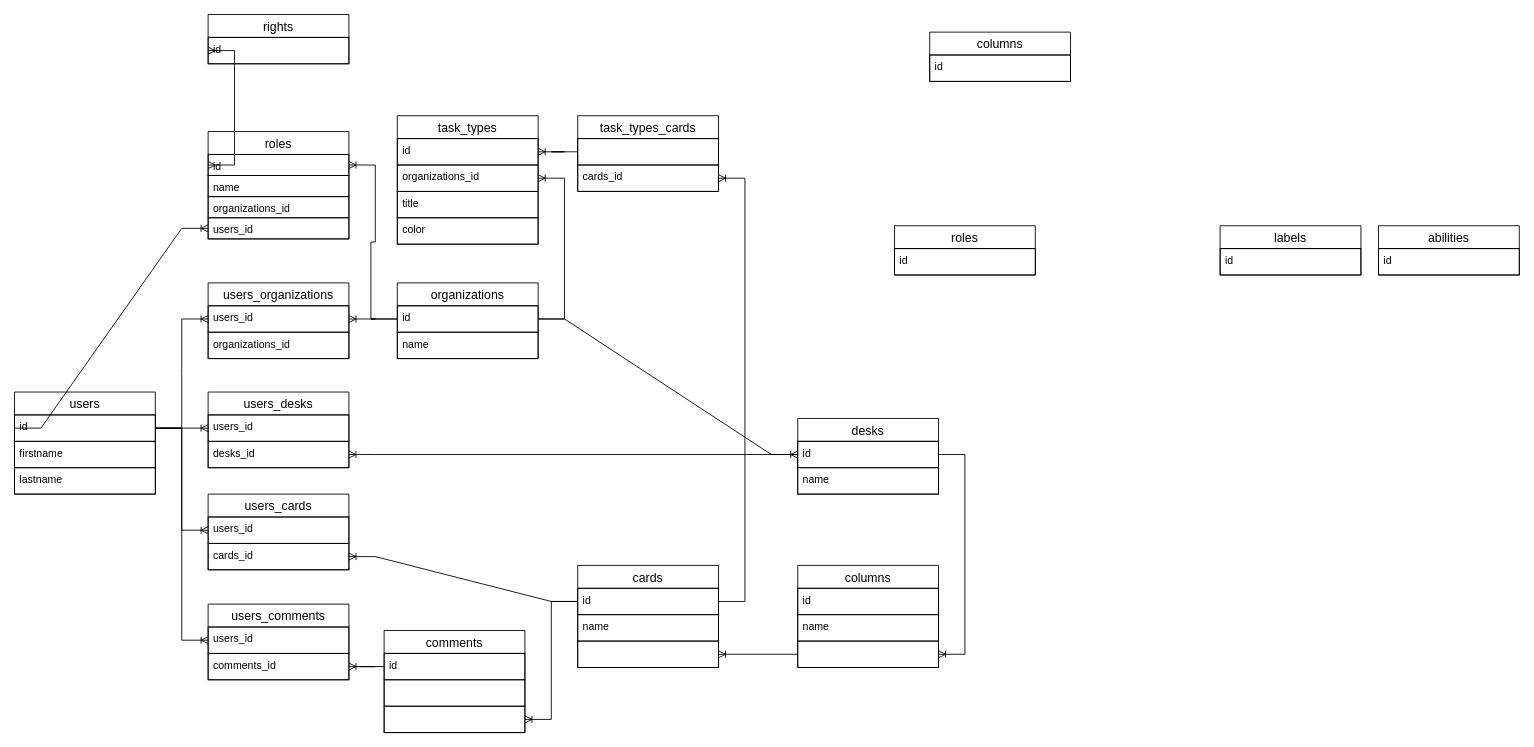
Some shapes in this 1534 by 747 pixel diagram are drawn without their labels. The centre of each missing label's shape, as x and y in pixels:
"card_id" belongs at (454,719).
"column_id" belongs at (648,653).
"desk_id" belongs at (868,653).
"task_types_id" belongs at (648,151).
"text" belongs at (454,692).
